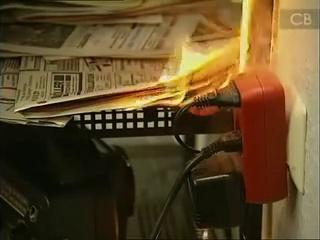Fire: (115, 1, 275, 119)
